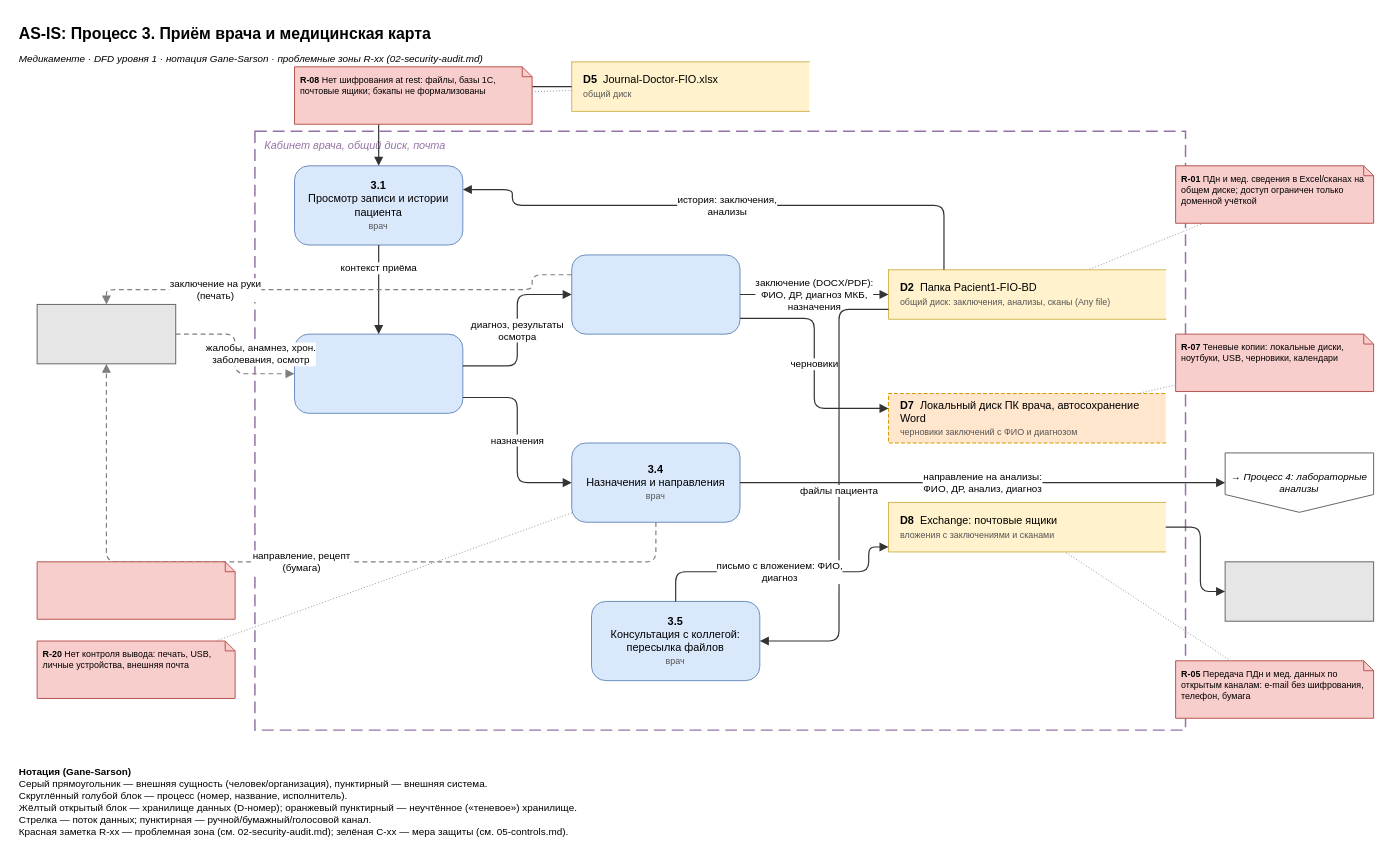
Some shapes in this 1391 by 865 pixel diagram are drawn without their labels. Each missing label, with the centre of its shape:
3.2 Осмотр и сбор анамнеза врач: point (378, 373)
3.3 Оформление заключения (Word/PDF) врач: point (655, 294)
R-02 Нет аудита: кто, когда и какие данные открыл, скопировал, изменил: point (135, 590)
Коллега (другой врач): point (1299, 591)
Пациент: point (106, 333)
